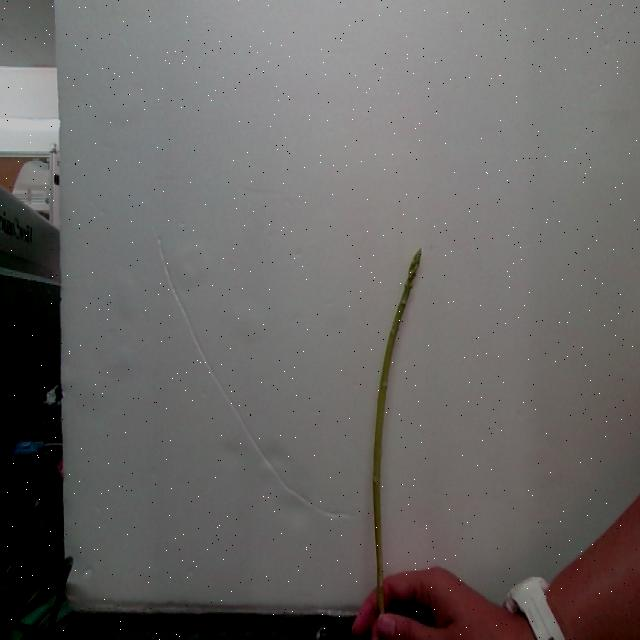aspargus: (375, 250, 423, 614)
